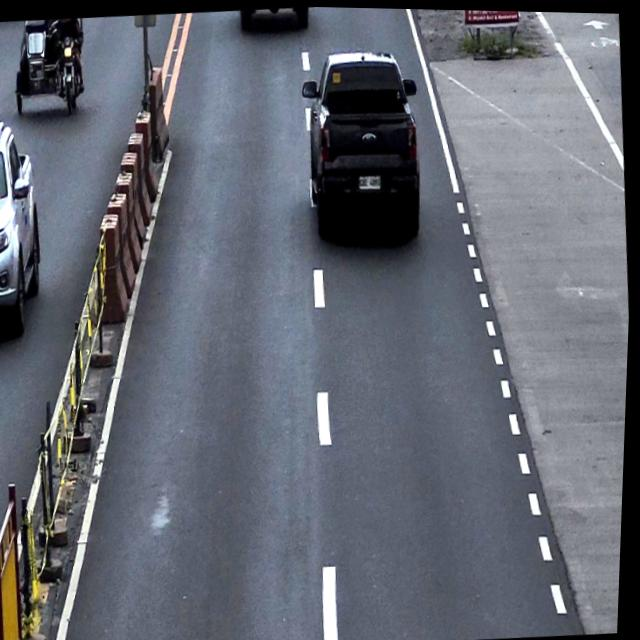Car: (295, 43, 428, 241), (0, 116, 51, 334)
License-Plate: (359, 170, 383, 190)
Tricycle: (9, 16, 90, 120)
